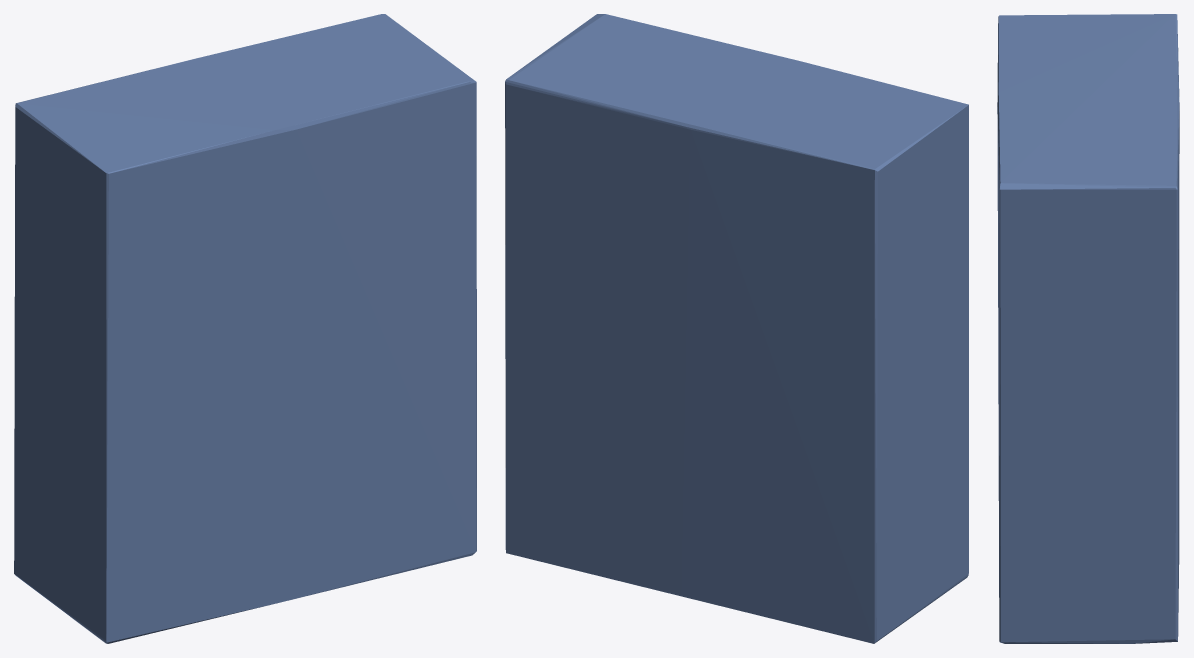
File: box_flat_a15.glb
3 renders of one model, left to right at view 1: azimuth 30°, elevation 25°; view 2: azimuth 150°, elevation 25°; view 3: azimuth 270°, elevation 25°, orthographic. The views are drawn at different scales.
Parts seen in each view (by area): view 1: geometry_0; view 2: geometry_0; view 3: geometry_0.
Part boxes in pixels (left/top/right/bottom): geometry_0: left=14, top=14, right=476, bottom=643; geometry_0: left=505, top=14, right=968, bottom=643; geometry_0: left=997, top=14, right=1179, bottom=643.
Bounding box in the file's own units: 0.3914 × 0.4782 × 0.1724.
